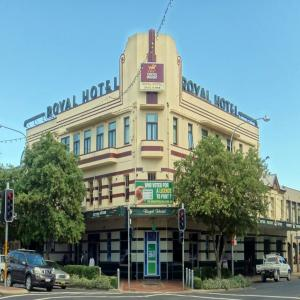Vehicle-registration-plate: (46, 278, 52, 283), (62, 282, 66, 285)
